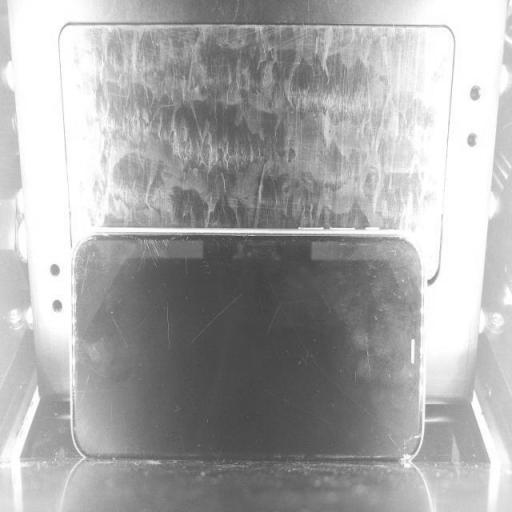phone: (69, 233, 432, 460)
